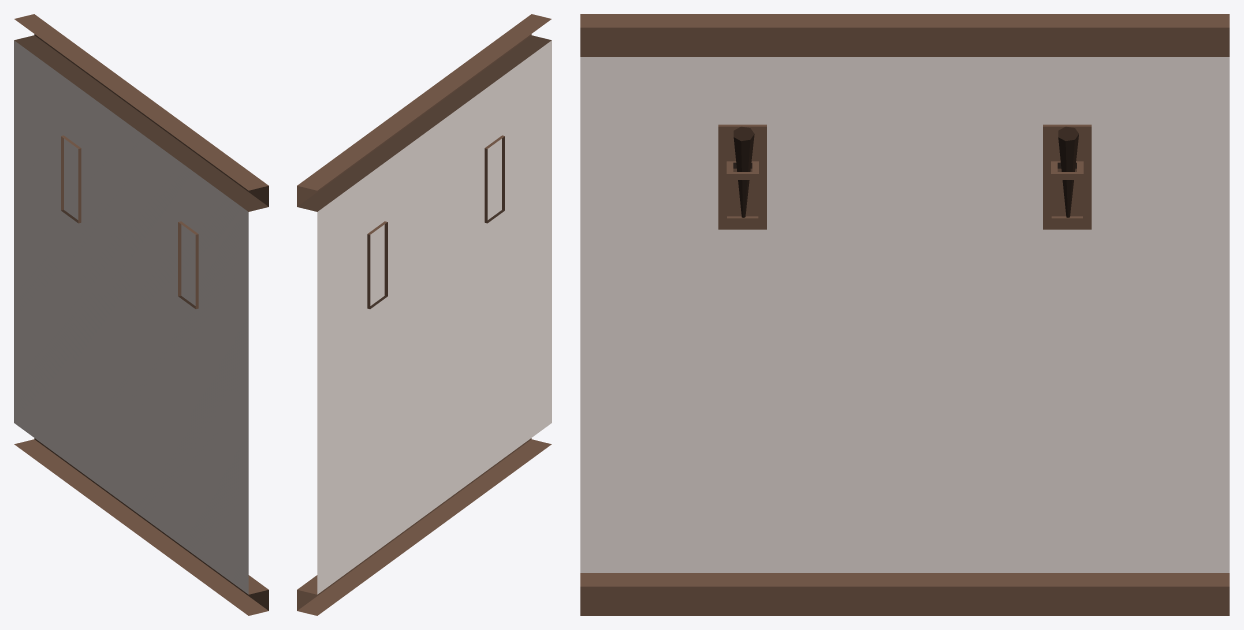
The model's file is basic_wall_006.fbx.
3 renders of one model, left to right at view 1: azimuth 30°, elevation 25°; view 2: azimuth 150°, elevation 25°; view 3: azimuth 270°, elevation 25°, orthographic. The views are drawn at different scales.
Parts seen in each view (by area): view 1: Base_Wall.006; view 2: Base_Wall.006; view 3: Base_Wall.006.
Part boxes in pixels (x1,y1,x2,y2): Base_Wall.006: (14,14,268,615); Base_Wall.006: (297,14,551,615); Base_Wall.006: (580,14,1229,615).
Bounding box in the file's own units: 200 × 14.48 × 200.
